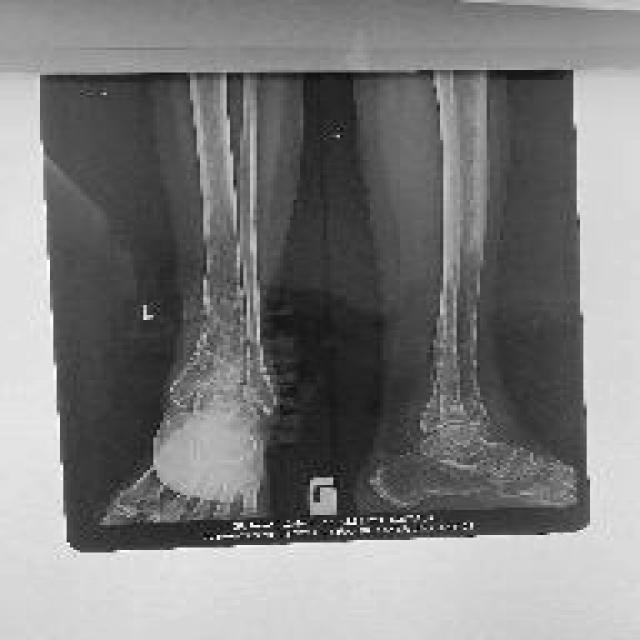bone-cancer: (194, 220, 247, 378), (433, 259, 480, 410)
